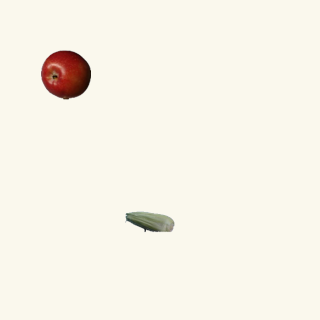Apple Braeburn: (40, 49, 90, 99)
Corn Husk: (124, 196, 174, 246)
